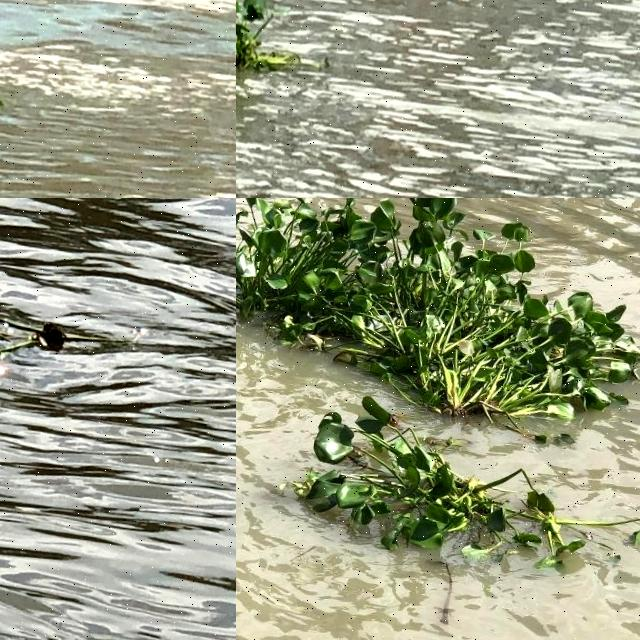water-hyacinth: (237, 198, 640, 442), (265, 391, 640, 588), (237, 1, 345, 86), (1, 301, 71, 377)
